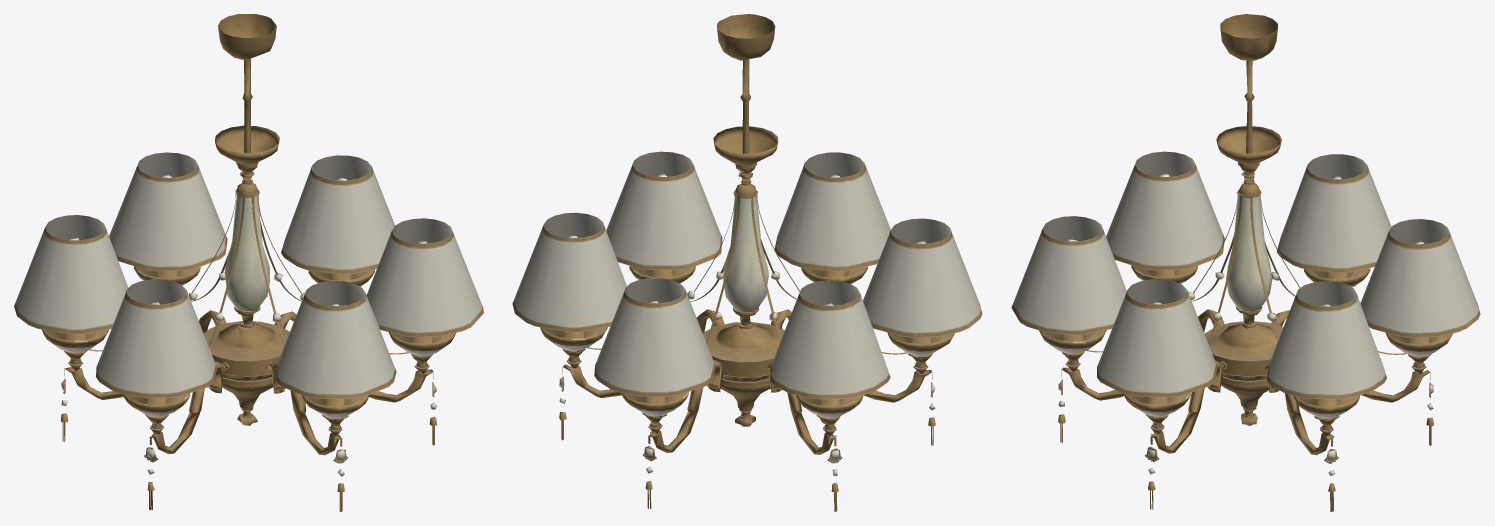
File: chandelier.glb
3 views of the same model, side by side, from view 1: azimuth 30°, elevation 25°; view 2: azimuth 150°, elevation 25°; view 3: azimuth 270°, elevation 25° (orthographic).
Parts seen in each view (by area): view 1: Chandelier_01; view 2: Chandelier_01; view 3: Chandelier_01.
Boxes of the visible parts, x1,y1,x2,y2 form: Chandelier_01: [14, 14, 483, 511]; Chandelier_01: [512, 14, 982, 511]; Chandelier_01: [1011, 14, 1480, 511].
Bounding box in the file's own units: 0.7426 × 0.7983 × 0.8155.
2 materials, 1 textured.
